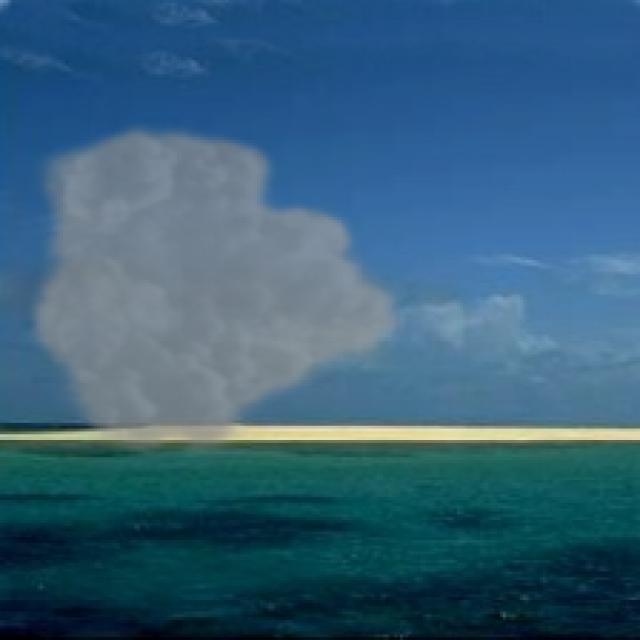Smoke: (26, 120, 412, 463)
